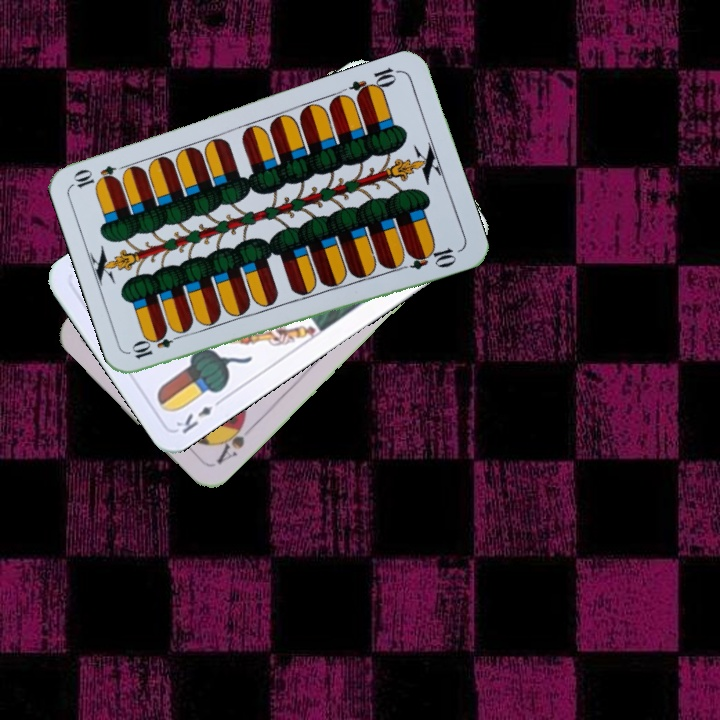E10: (346, 63, 403, 102), (128, 328, 186, 362)
EK: (172, 394, 227, 437)
SA: (212, 415, 248, 467)
